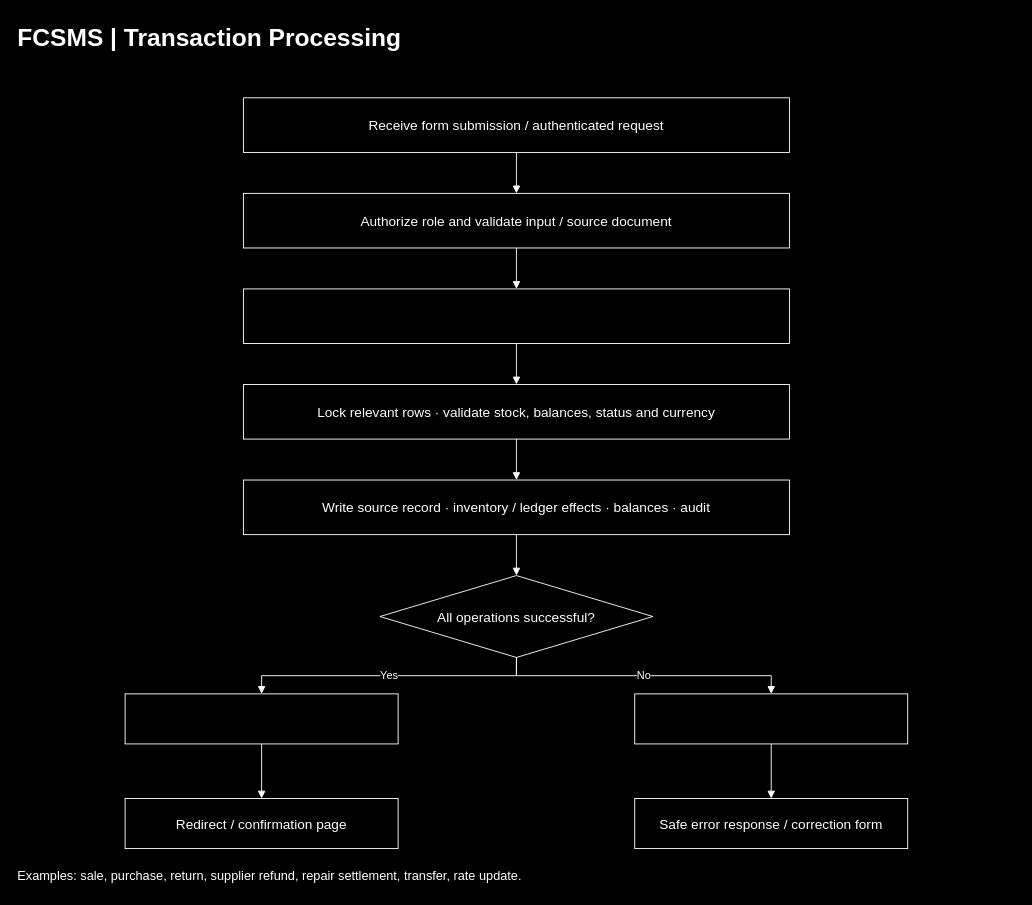
Some shapes in this 1032 by 905 pixel diagram are drawn without their labels. Here are the shapes that lost their labels. From the top down, the box of each, then its label:
(243, 288, 789, 344): Acquire Oracle connection · start transaction
(124, 693, 398, 744): Commit once
(634, 693, 908, 744): Rollback entire transaction
